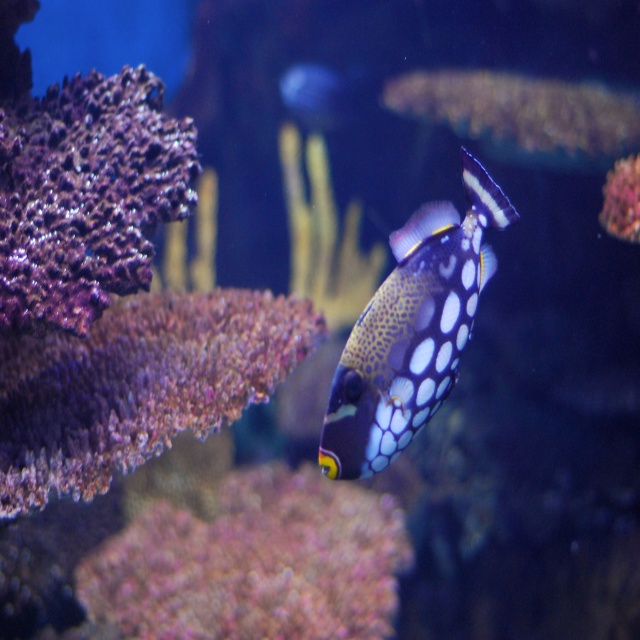Fish: (319, 146, 521, 480)
